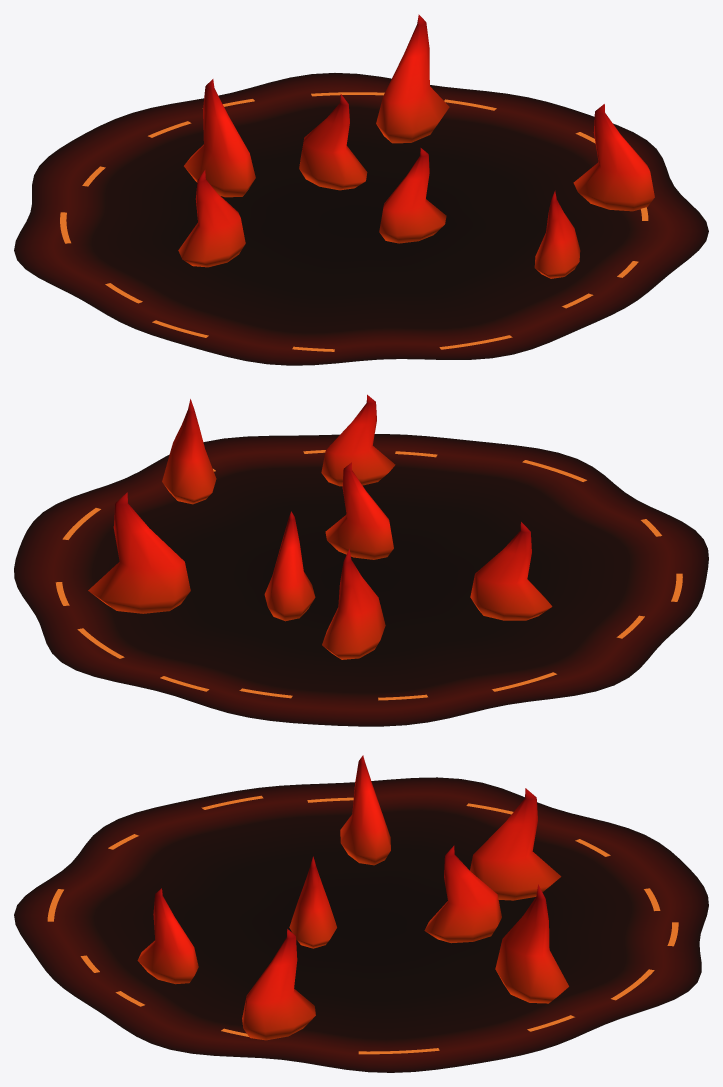
The model's file is Amber_BurningArea.fbx.
3 views of the same model, one above another, from view 1: azimuth 30°, elevation 25°; view 2: azimuth 150°, elevation 25°; view 3: azimuth 270°, elevation 25° (orthographic).
Visible parts, largest first — view 1: ASSET_BurnPatch, BurningArea_Tongue_4, BurningArea_Tongue_5, BurningArea_Tongue_1, BurningArea_Tongue_3, BurningArea_Tongue_2, BurningArea_Tongue_0, BurningArea_Tongue_6, ASSET_BrokenEmberBoundary; view 2: ASSET_BurnPatch, BurningArea_Tongue_4, BurningArea_Tongue_2, BurningArea_Tongue_1, BurningArea_Tongue_0, BurningArea_Tongue_6, BurningArea_Tongue_5, BurningArea_Tongue_3, ASSET_BrokenEmberBoundary; view 3: ASSET_BurnPatch, BurningArea_Tongue_1, BurningArea_Tongue_4, BurningArea_Tongue_5, BurningArea_Tongue_3, BurningArea_Tongue_2, BurningArea_Tongue_6, ASSET_BrokenEmberBoundary, BurningArea_Tongue_0.
Part boxes in pixels (x1,y1,x2,y2): ASSET_BurnPatch: [14, 73, 708, 365]; BurningArea_Tongue_4: [376, 14, 449, 143]; BurningArea_Tongue_5: [573, 104, 654, 211]; BurningArea_Tongue_1: [184, 79, 255, 197]; BurningArea_Tongue_3: [299, 94, 367, 190]; BurningArea_Tongue_2: [178, 170, 245, 267]; BurningArea_Tongue_0: [379, 148, 446, 243]; BurningArea_Tongue_6: [534, 190, 580, 278]; ASSET_BrokenEmberBoundary: [60, 92, 648, 351]; ASSET_BurnPatch: [14, 434, 708, 726]; BurningArea_Tongue_4: [88, 492, 190, 613]; BurningArea_Tongue_2: [470, 522, 552, 620]; BurningArea_Tongue_1: [322, 548, 385, 659]; BurningArea_Tongue_0: [325, 462, 393, 559]; BurningArea_Tongue_6: [321, 394, 395, 486]; BurningArea_Tongue_5: [162, 399, 216, 504]; BurningArea_Tongue_3: [264, 511, 315, 621]; ASSET_BrokenEmberBoundary: [55, 450, 682, 700]; ASSET_BurnPatch: [14, 777, 708, 1072]; BurningArea_Tongue_1: [470, 788, 561, 900]; BurningArea_Tongue_4: [495, 884, 568, 1003]; BurningArea_Tongue_5: [242, 929, 315, 1040]; BurningArea_Tongue_3: [424, 845, 501, 943]; BurningArea_Tongue_2: [340, 755, 390, 865]; BurningArea_Tongue_6: [137, 888, 198, 984]; ASSET_BrokenEmberBoundary: [47, 795, 678, 1054]; BurningArea_Tongue_0: [289, 856, 336, 948].
Bounding box in the file's own units: 215 × 38.07 × 214.
